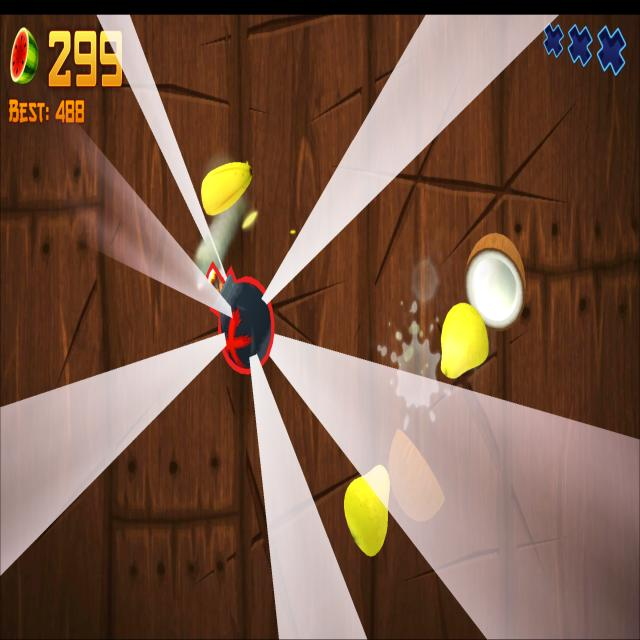bomb: (207, 261, 276, 376)
fruit: (343, 465, 390, 559), (440, 302, 489, 380), (200, 158, 253, 217)
